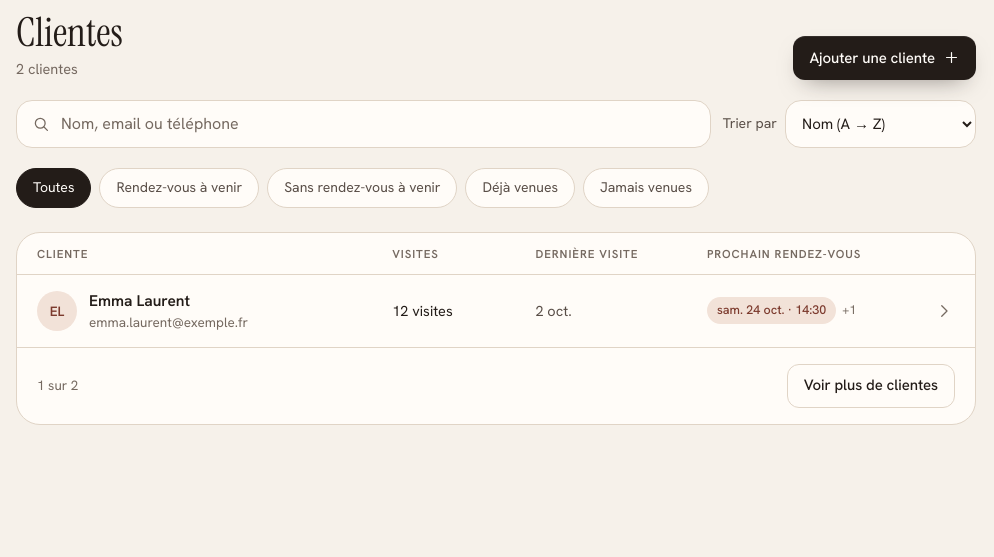
Test: pagination › a failed next page keeps what is shown and offers to retry
Step 1. Click the button "Voir plus de clientes" → (871, 386), box [787,364,955,408]
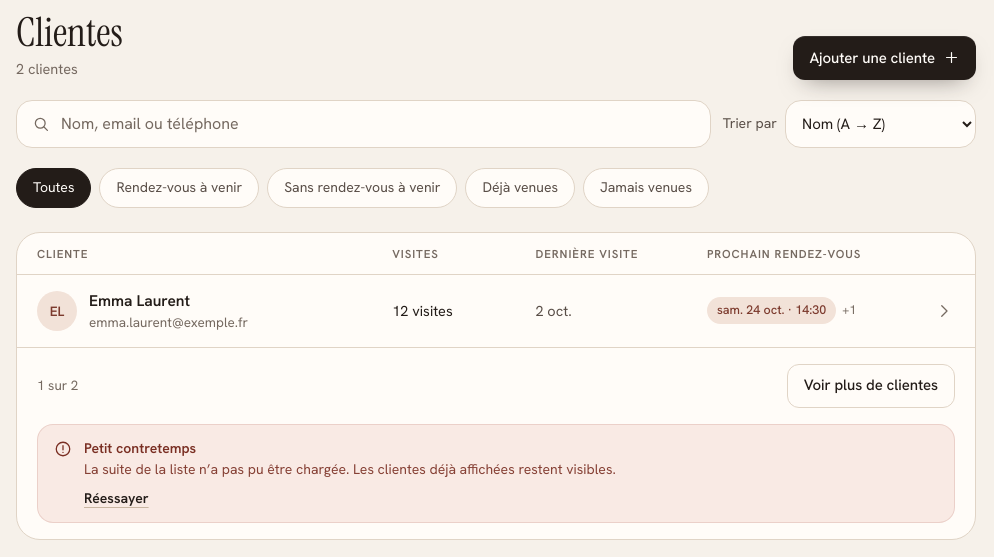
Expected: the message shows "Les clientes déjà affichées restent visibles", [84,460,616,478]
Step 2. Click the button "Réessayer" → (116, 499), box [84,489,149,508]
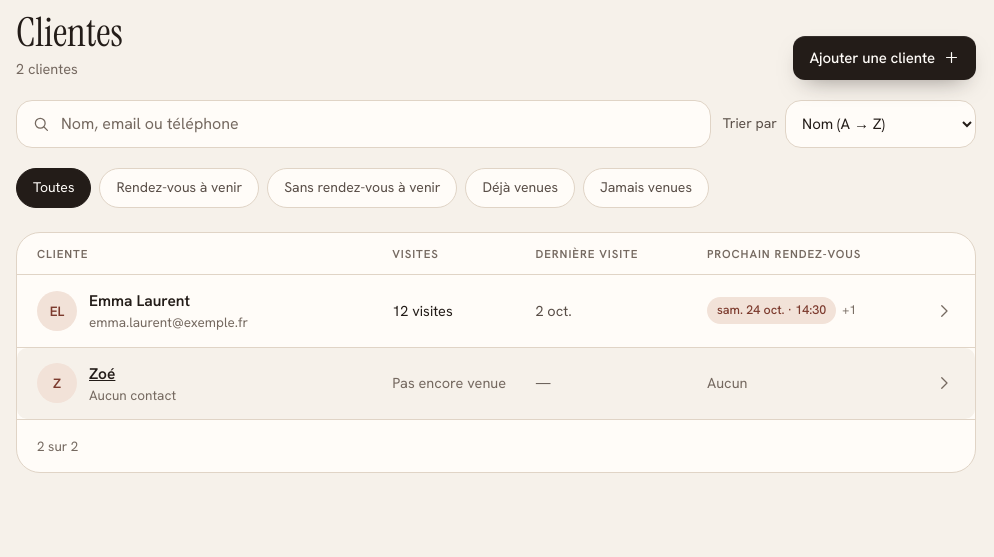
Expected: the message is gone
